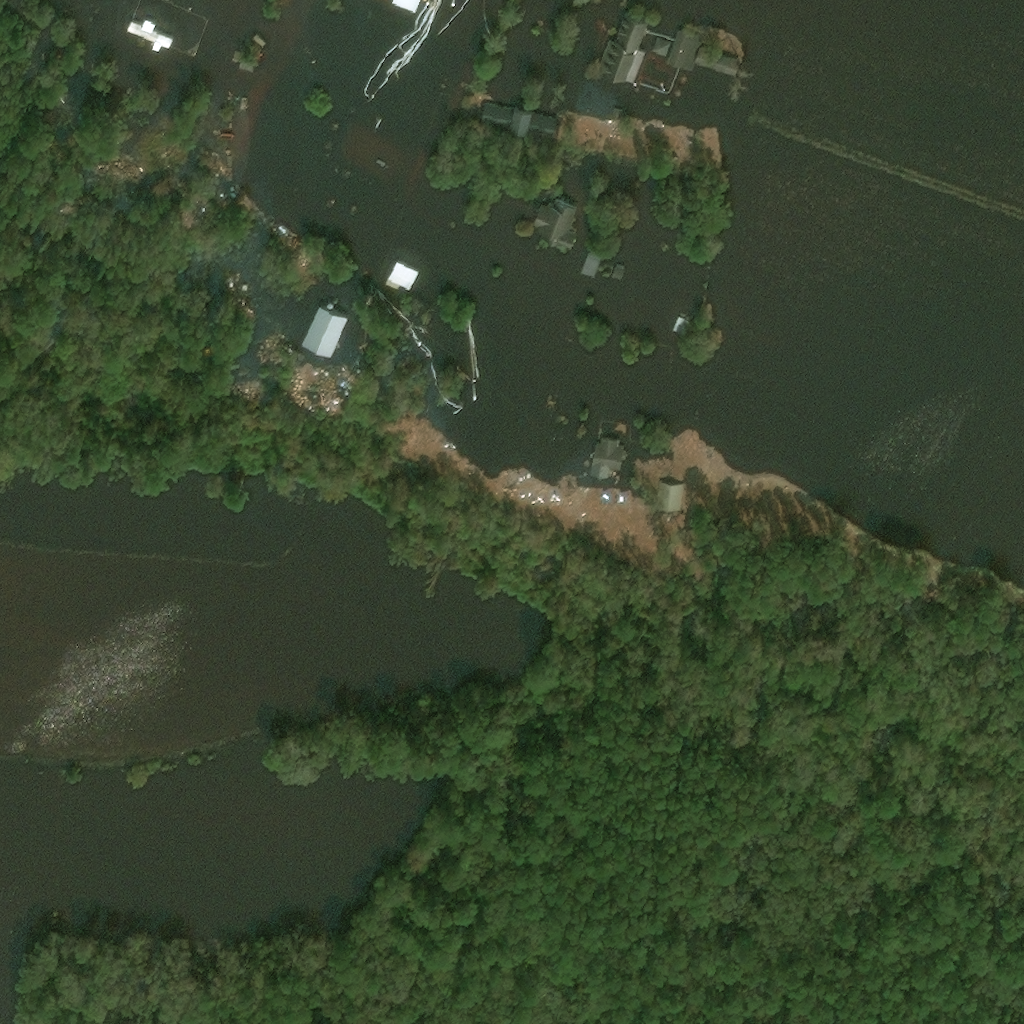major_damage: (598, 15, 648, 83), (299, 302, 345, 354), (530, 198, 577, 248), (125, 18, 172, 51), (588, 435, 625, 475), (666, 28, 700, 71), (384, 259, 421, 290), (580, 251, 602, 275), (649, 36, 669, 56), (251, 29, 269, 48), (673, 314, 689, 335), (391, 0, 416, 10), (610, 267, 626, 281), (236, 61, 255, 72), (324, 301, 331, 306)
minor_damage: (480, 100, 562, 137), (693, 43, 744, 77), (656, 482, 682, 508)
